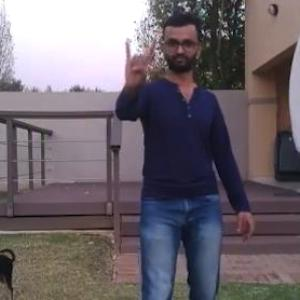takeoff-hand: (118, 32, 158, 86)
